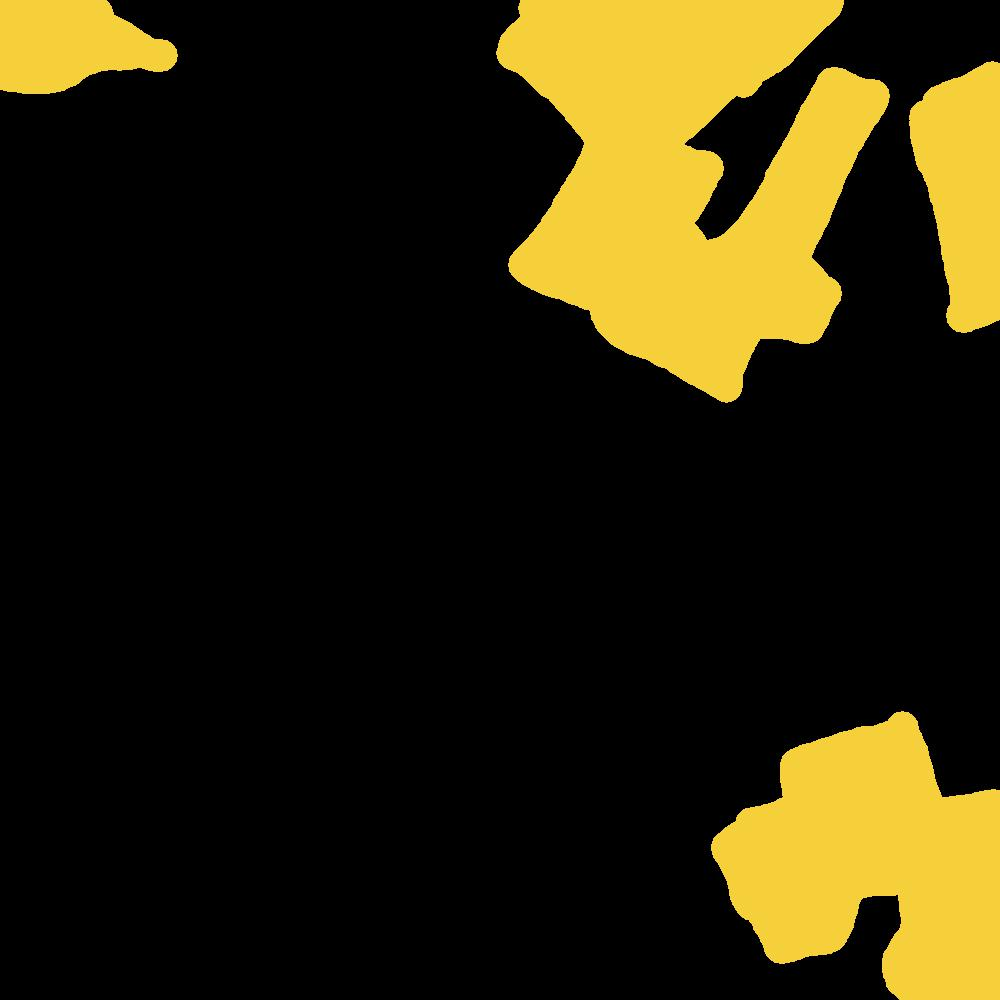legal: (501, 1, 1000, 397), (717, 707, 1000, 1000), (1, 1, 198, 94)
